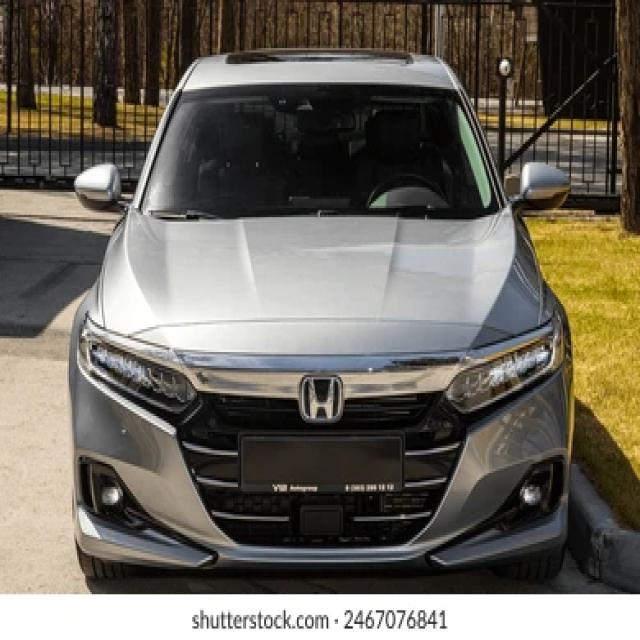honda: (298, 374, 346, 426)
